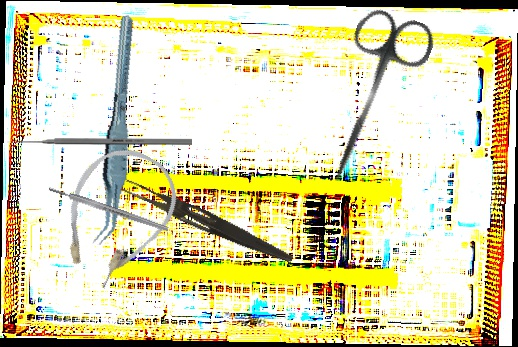Cannula: (39, 133, 192, 301)
Dressing Forceps: (118, 178, 298, 266)
Iris Scissors: (302, 1, 440, 197)
Pusher: (7, 138, 192, 145)
Scalpel Handle: (47, 185, 170, 233)
Tissue Forceps: (72, 13, 161, 249)
